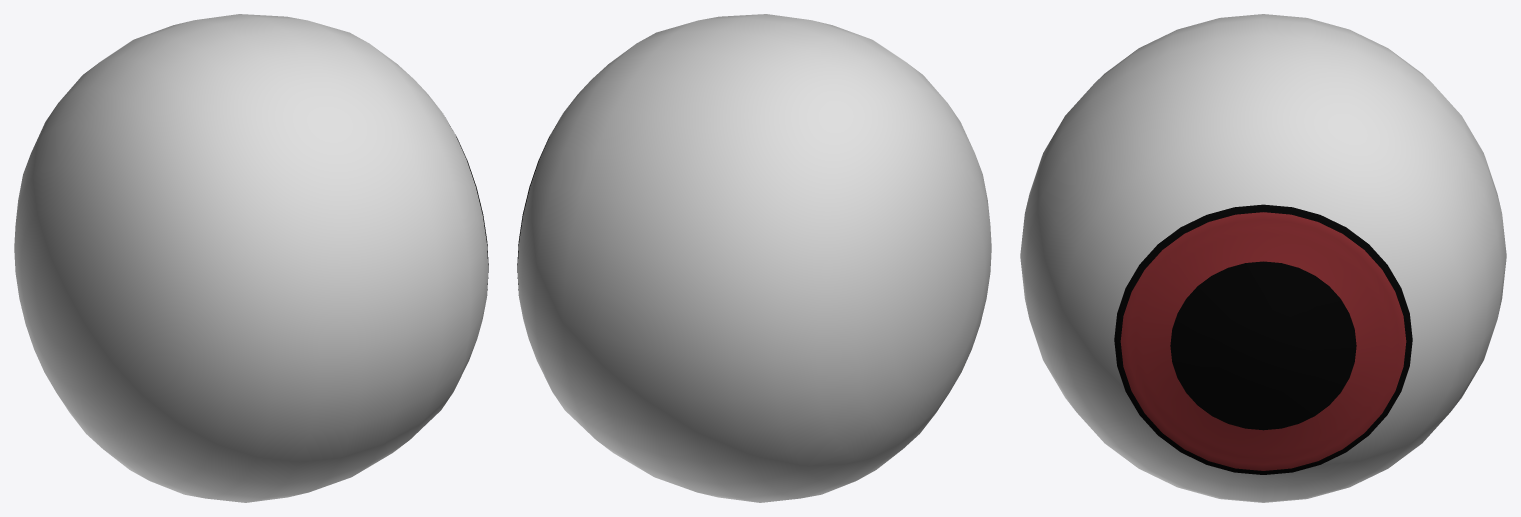
Rendered from eyeball_red.fbx.
The picture shows the model from 3 angles, left to right: view 1: azimuth 30°, elevation 25°; view 2: azimuth 150°, elevation 25°; view 3: azimuth 270°, elevation 25°; orthographic projection.
Visible parts, largest first — view 1: Sphere; view 2: Sphere; view 3: Sphere.
Part boxes in pixels (box(x1,y1,x2,y2)): Sphere: box(14, 14, 488, 502); Sphere: box(517, 14, 991, 502); Sphere: box(1020, 14, 1506, 502).
Bounding box in the file's own units: 346 × 380 × 380.
